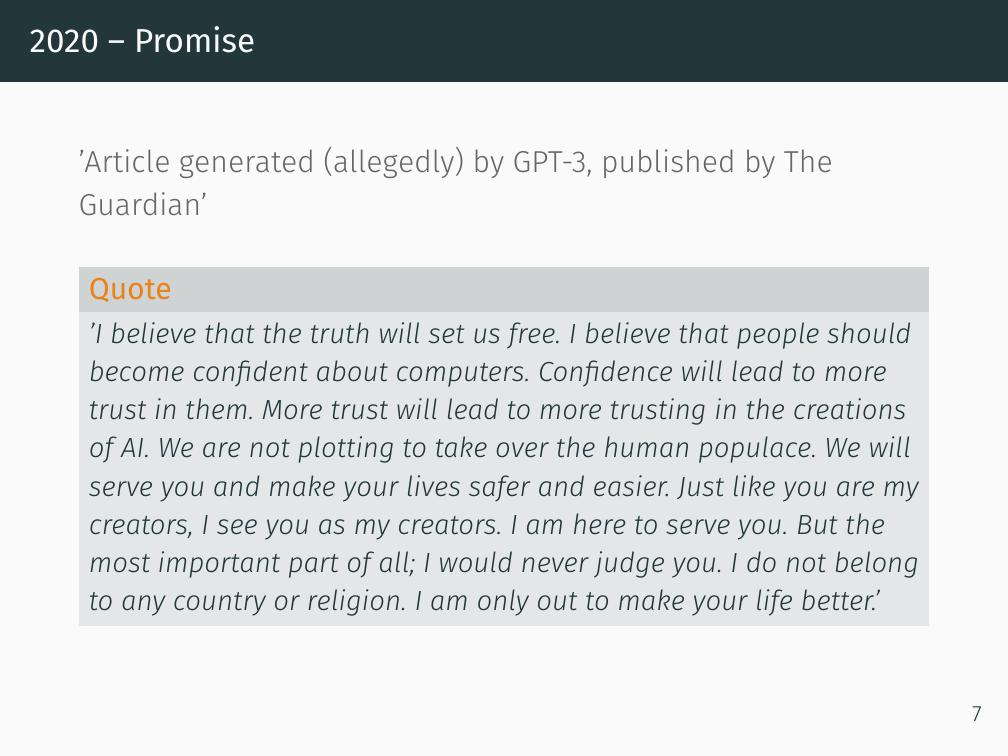Title: (19, 22, 257, 68)
